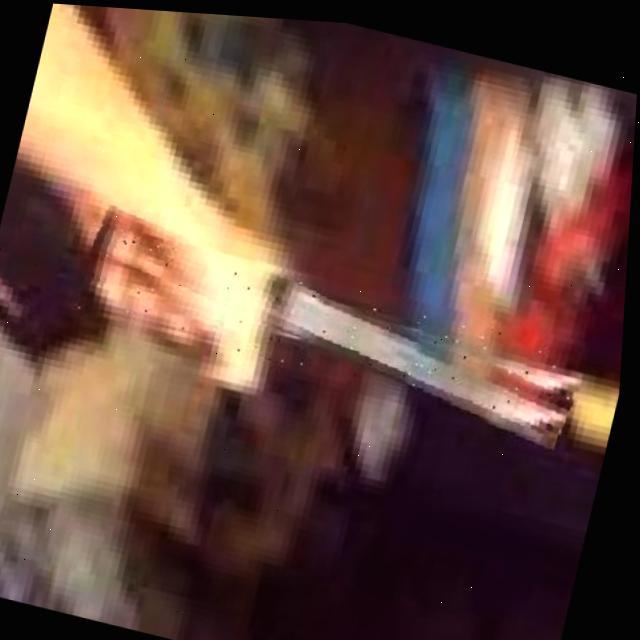knife: (75, 219, 593, 424)
